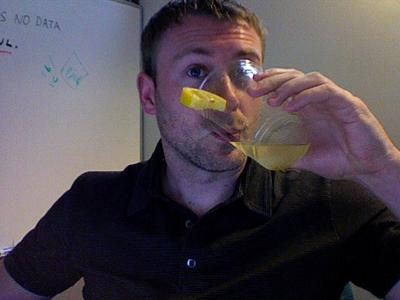person: (1, 2, 400, 300)
